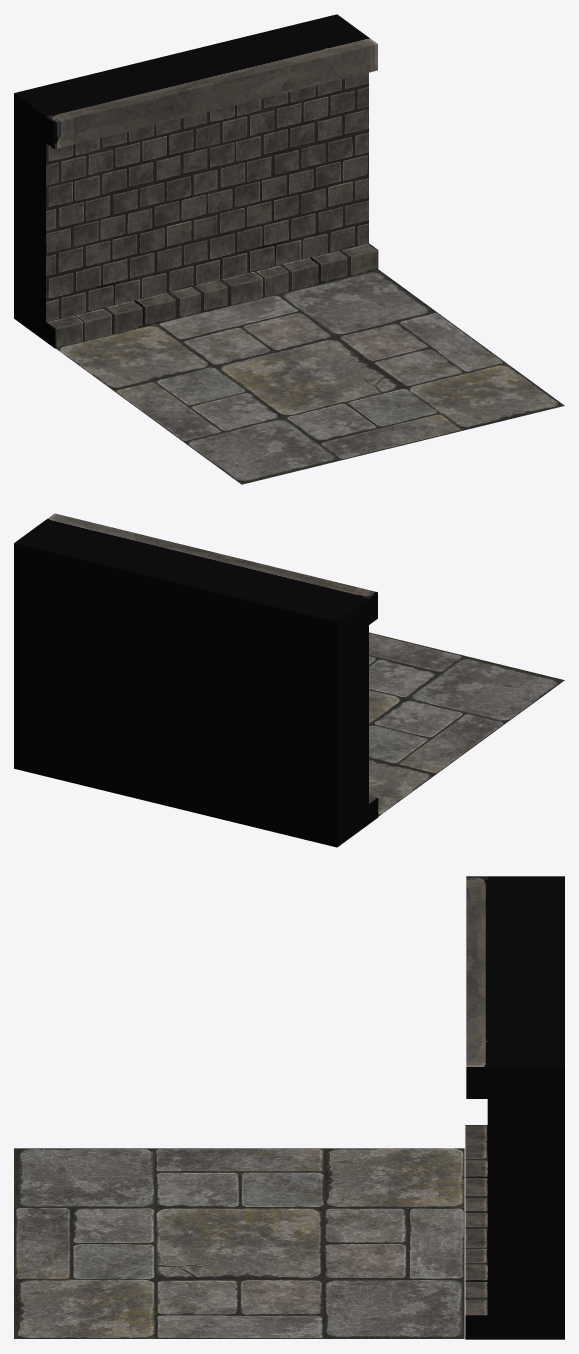
File: ModularStraight01.fbx
3 renders of one model, top to bottom at view 1: azimuth 30°, elevation 25°; view 2: azimuth 150°, elevation 25°; view 3: azimuth 270°, elevation 25°, orthographic. The views are drawn at different scales.
Visible parts, largest first — view 1: Plane, Plane.001; view 2: Plane, Plane.001; view 3: Plane.001, Plane.
Part boxes in pixels (<box>): Plane: <box>14,14,378,348</box>; Plane.001: <box>56,269,564,484</box>; Plane: <box>14,513,378,847</box>; Plane.001: <box>369,632,564,816</box>; Plane.001: <box>14,1148,464,1338</box>; Plane: <box>465,876,564,1339</box>.
Bounding box in the file's own units: 3 × 2 × 3.66.
Materials: 2 (2 with a texture image).
